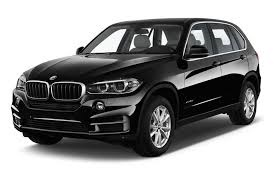bmw: (2, 14, 276, 158)
